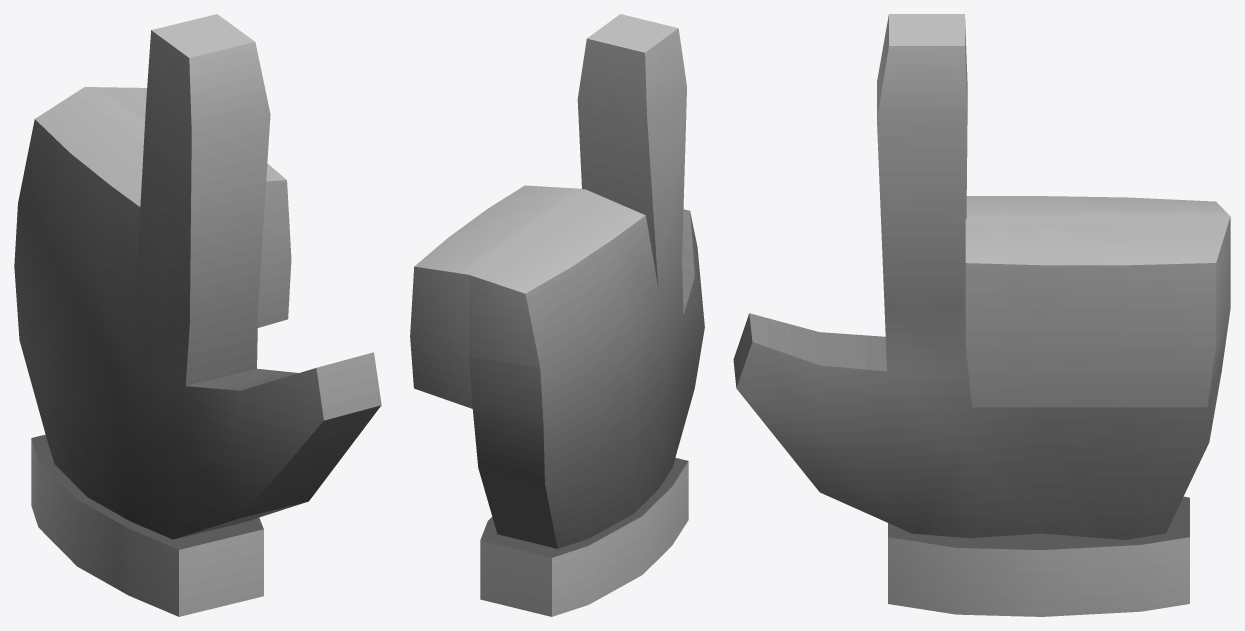
File: handy.fbx
3 renders of one model, left to right at view 1: azimuth 30°, elevation 25°; view 2: azimuth 150°, elevation 25°; view 3: azimuth 270°, elevation 25°, orthographic. The views are drawn at different scales.
Visible parts, largest first — view 1: pCube2; view 2: pCube2; view 3: pCube2.
Boxes of the visible parts, x1,y1,x2,y2 form: pCube2: (14,14,381,616); pCube2: (410,14,704,616); pCube2: (733,14,1230,616).
Bounding box in the file's own units: 2.15 × 6.48 × 5.27.
